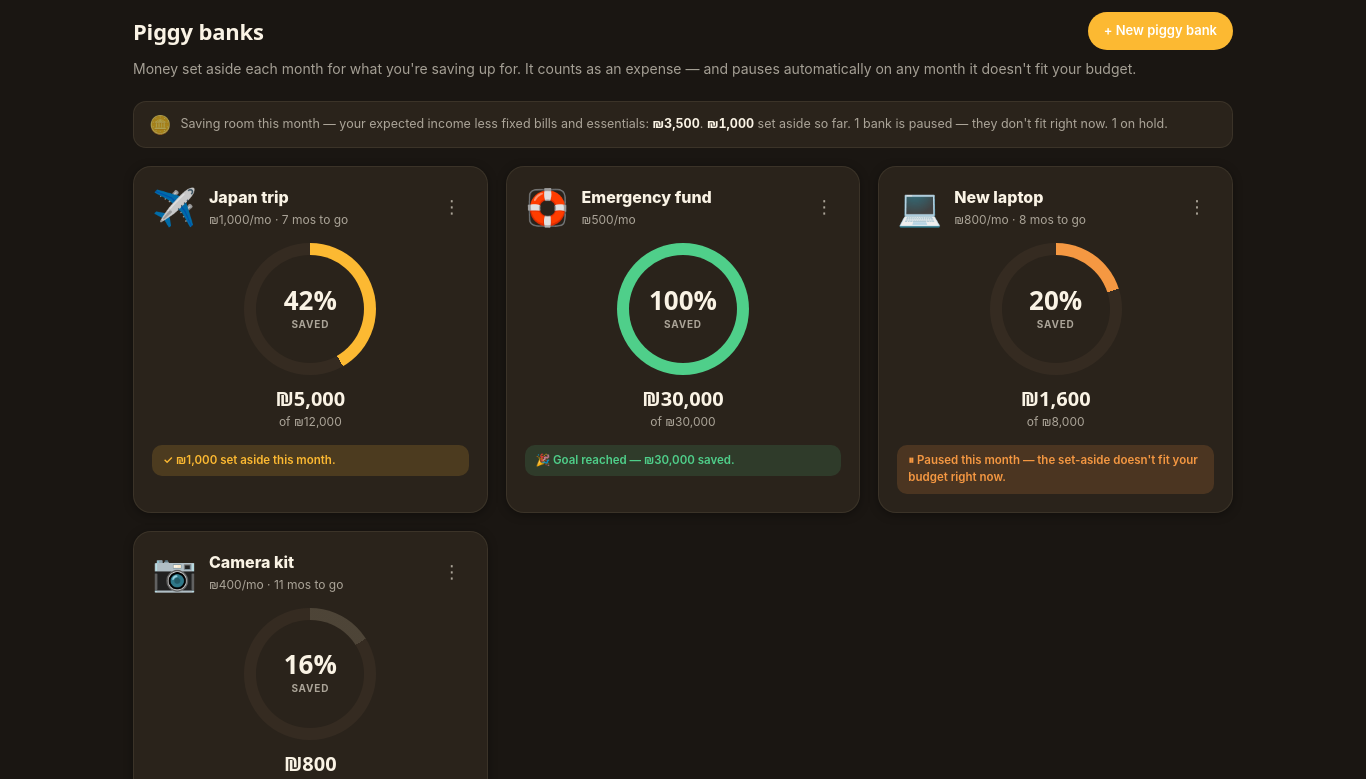
Test: PiggyView — CRUD › shows "Resume" instead of "Pause" on an on-hold bank
The image size is (1366, 779).
Click the button named "actions": (452, 572) top-left (435, 559), bottom-right (469, 585)
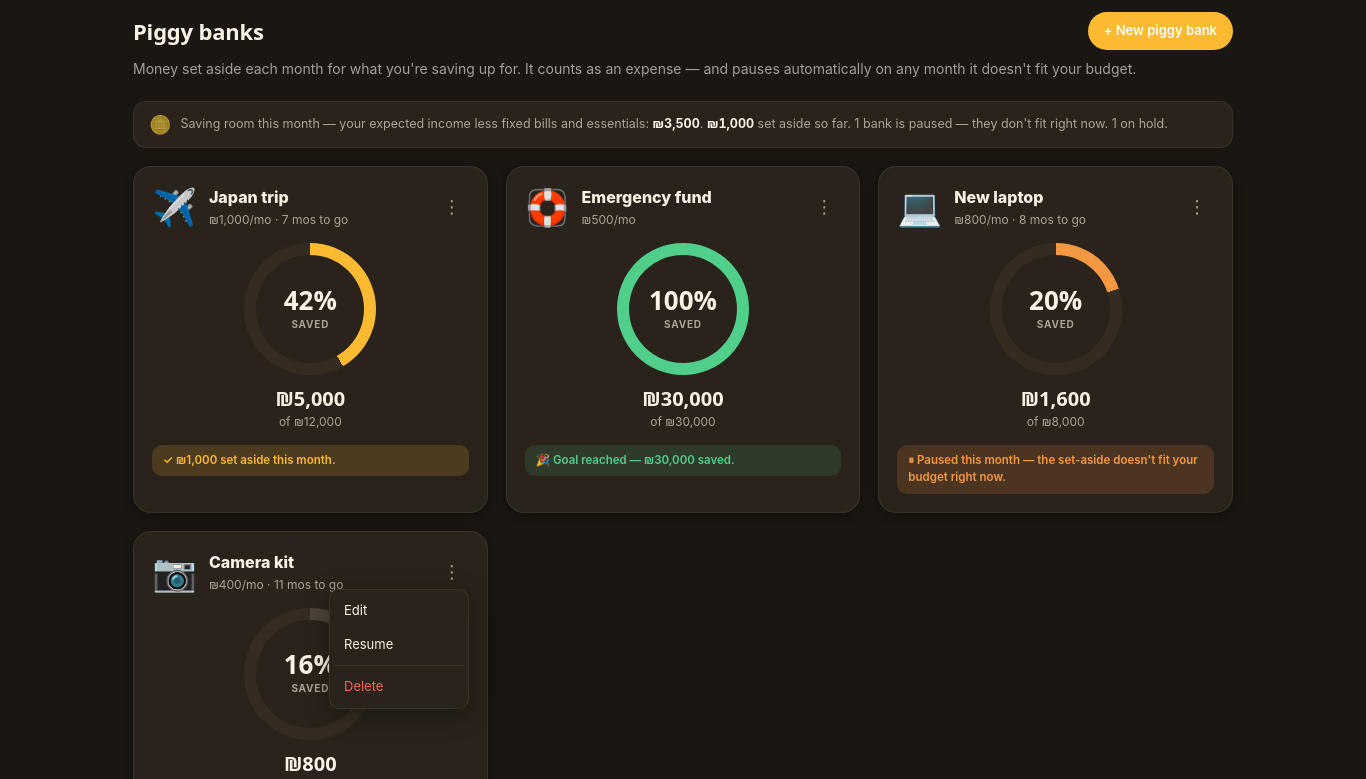
Check: the menu item "Resume" is shown, box top-left (344, 636), bottom-right (393, 652)
